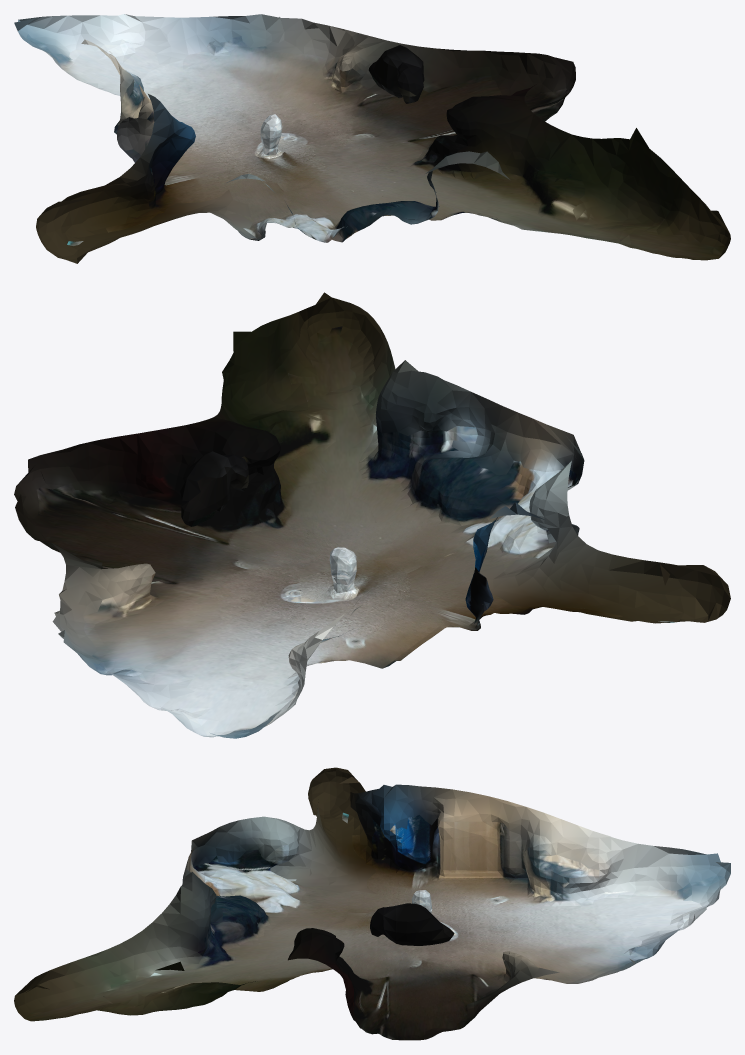
The picture shows the model from 3 angles, top to bottom: view 1: azimuth 30°, elevation 25°; view 2: azimuth 150°, elevation 25°; view 3: azimuth 270°, elevation 25°; orthographic projection. The views are drawn at different scales.
Size of the model in its own units: 3.61 by 0.5879 by 4.4.
Materials: 1 (1 with a texture image).
